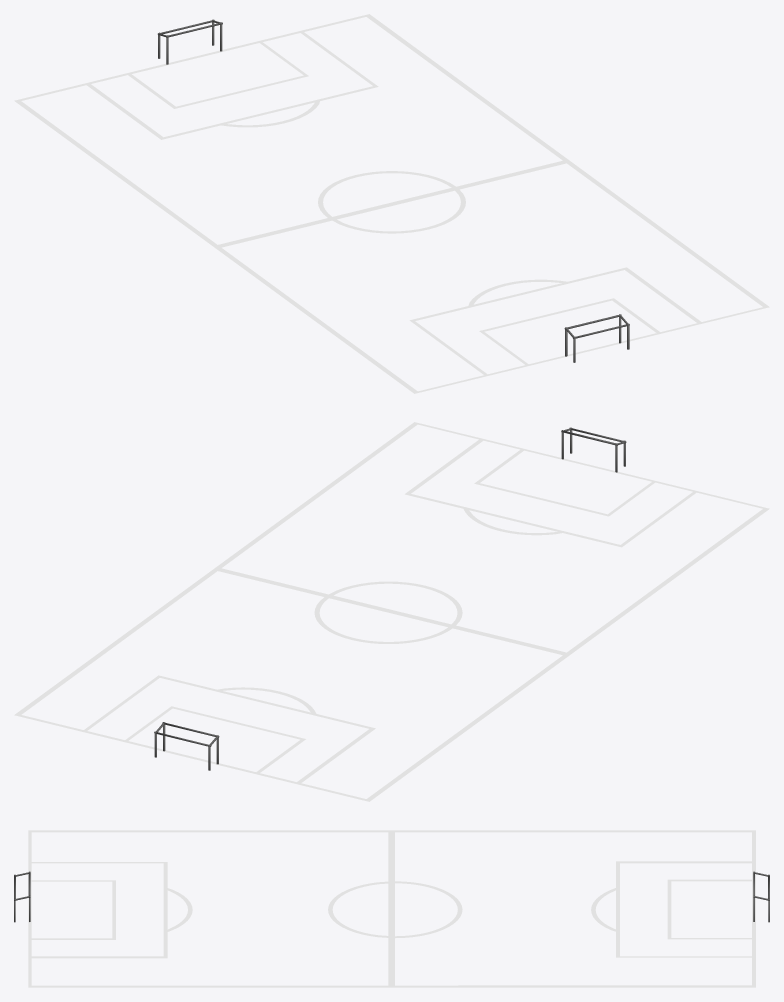
Rendered from SoccerCamp.fbx.
3 renders of one model, top to bottom at view 1: azimuth 30°, elevation 25°; view 2: azimuth 150°, elevation 25°; view 3: azimuth 270°, elevation 25°, orthographic. The views are drawn at different scales.
Parts seen in each view (by area): view 1: SoccerCamp; view 2: SoccerCamp; view 3: SoccerCamp.
Boxes of the visible parts, x1,y1,x2,y2 form: SoccerCamp: (14,14,769,393); SoccerCamp: (14,422,769,801); SoccerCamp: (14,830,769,987).
Size of the model in its own units: 31.1 by 2.4 by 63.07.
